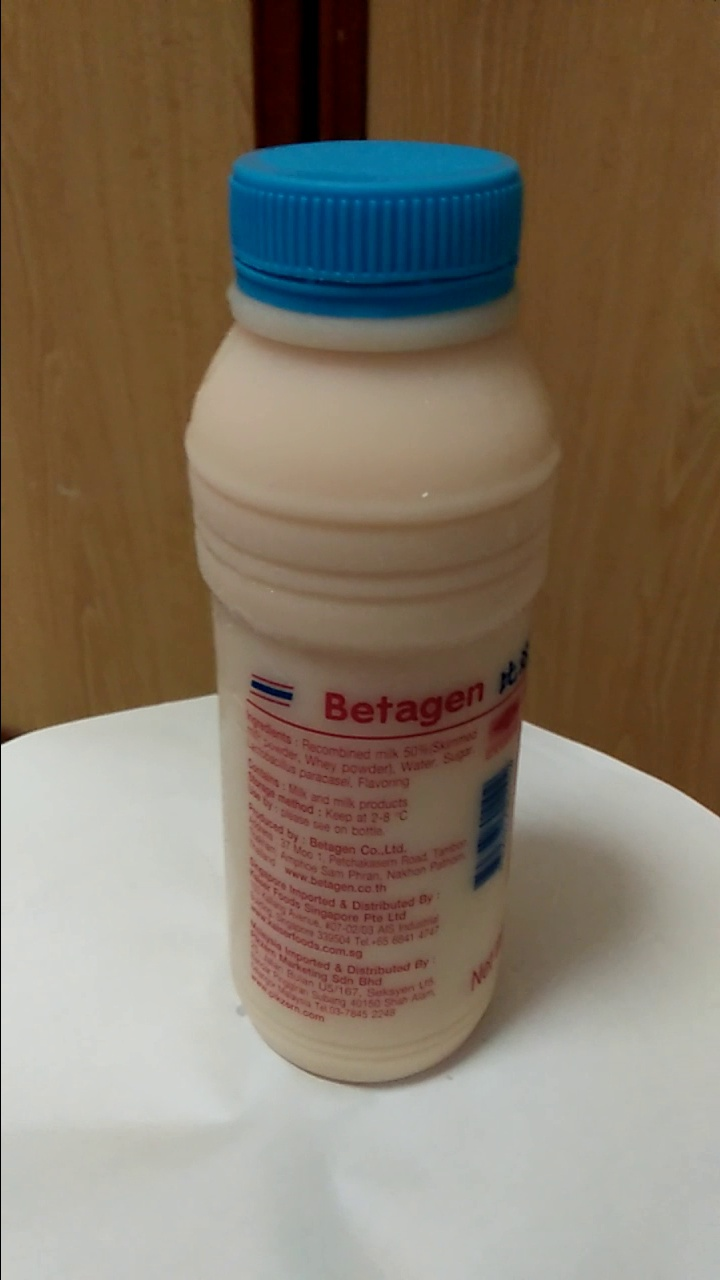mlik2: (213, 141, 537, 1090)
